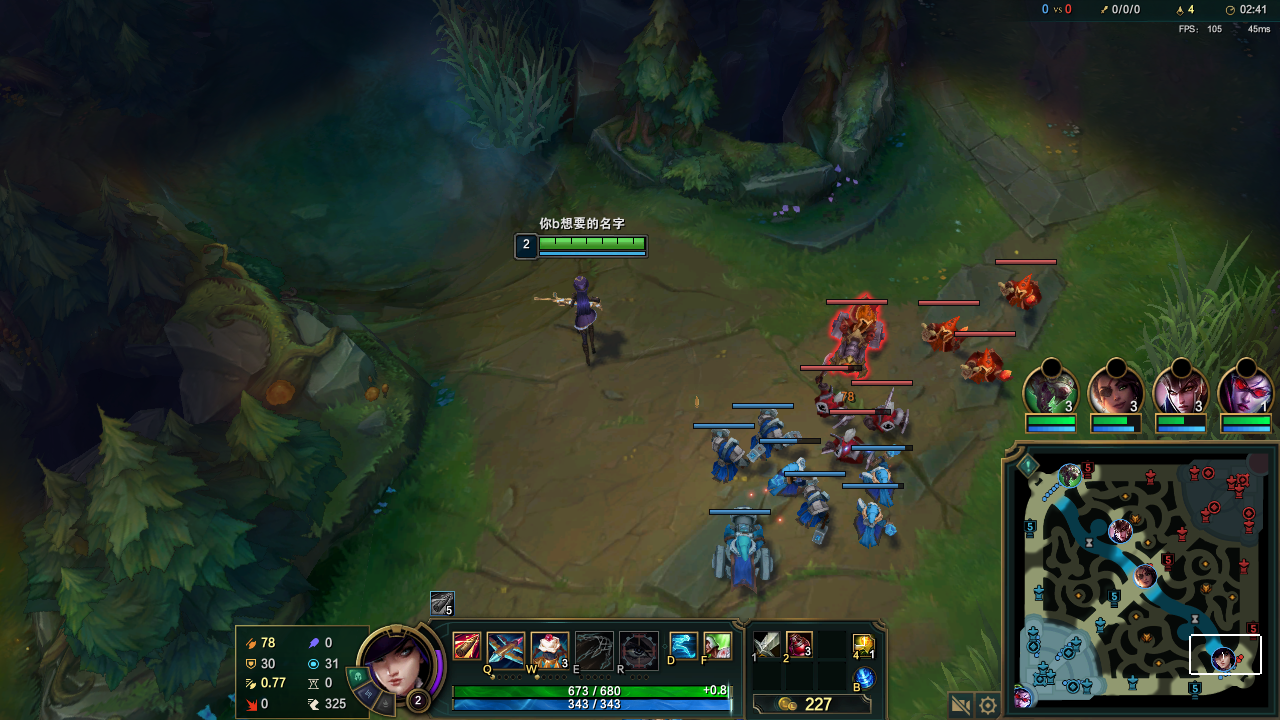DFXB: (825, 292, 887, 370), (961, 349, 1010, 387), (823, 426, 866, 466), (995, 270, 1040, 308), (922, 315, 967, 350), (813, 371, 846, 416), (873, 401, 908, 436)
WFXB: (706, 505, 781, 581), (709, 430, 764, 482), (848, 493, 899, 548), (751, 407, 800, 456), (796, 476, 831, 535), (857, 460, 903, 499), (772, 456, 810, 494)
Yita: (1185, 675, 1204, 700)
